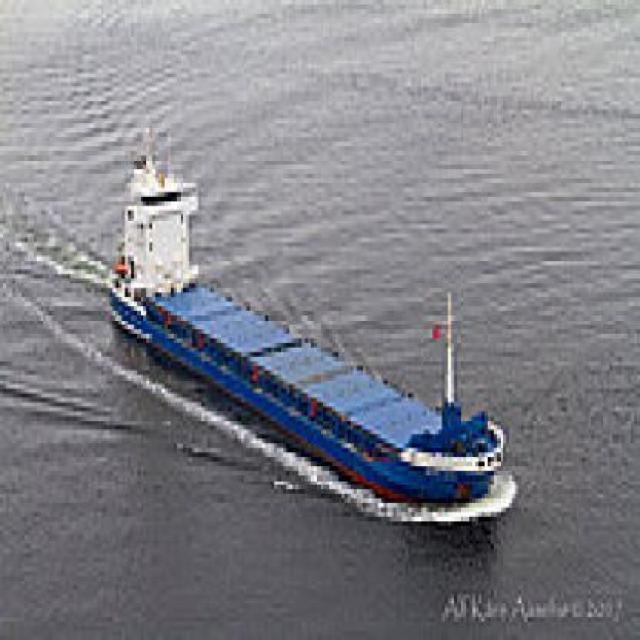container: (114, 152, 511, 523)
